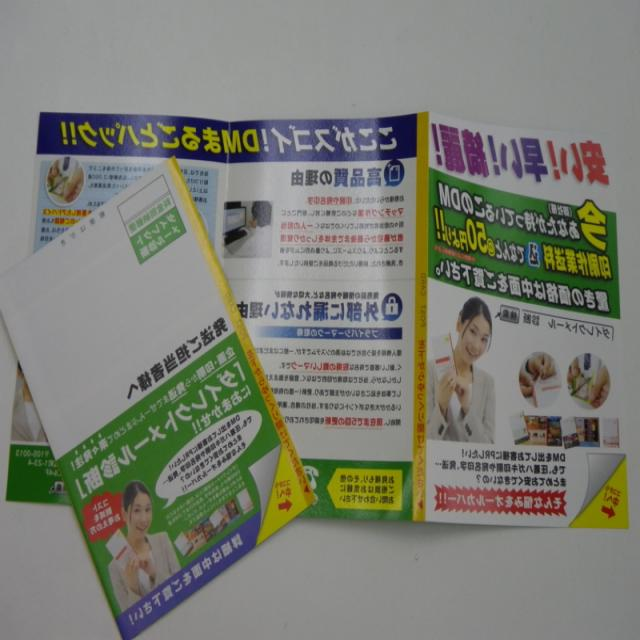paper: (10, 106, 617, 628)
